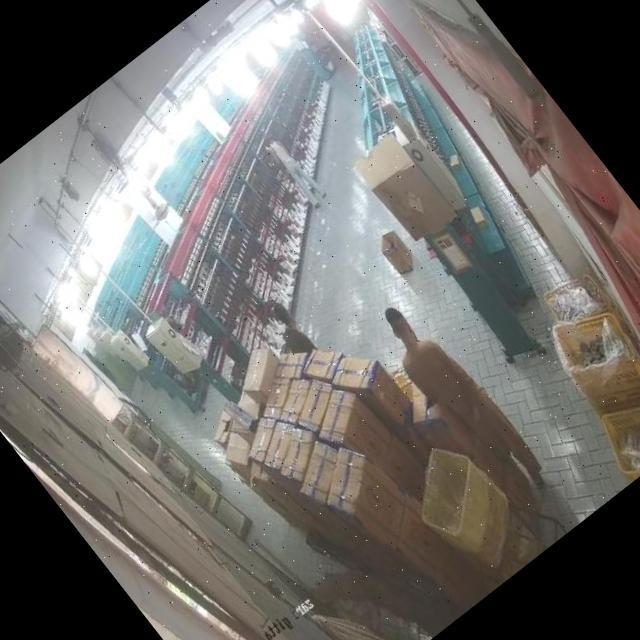person: (366, 284, 558, 512), (260, 129, 331, 214), (261, 297, 316, 357)
